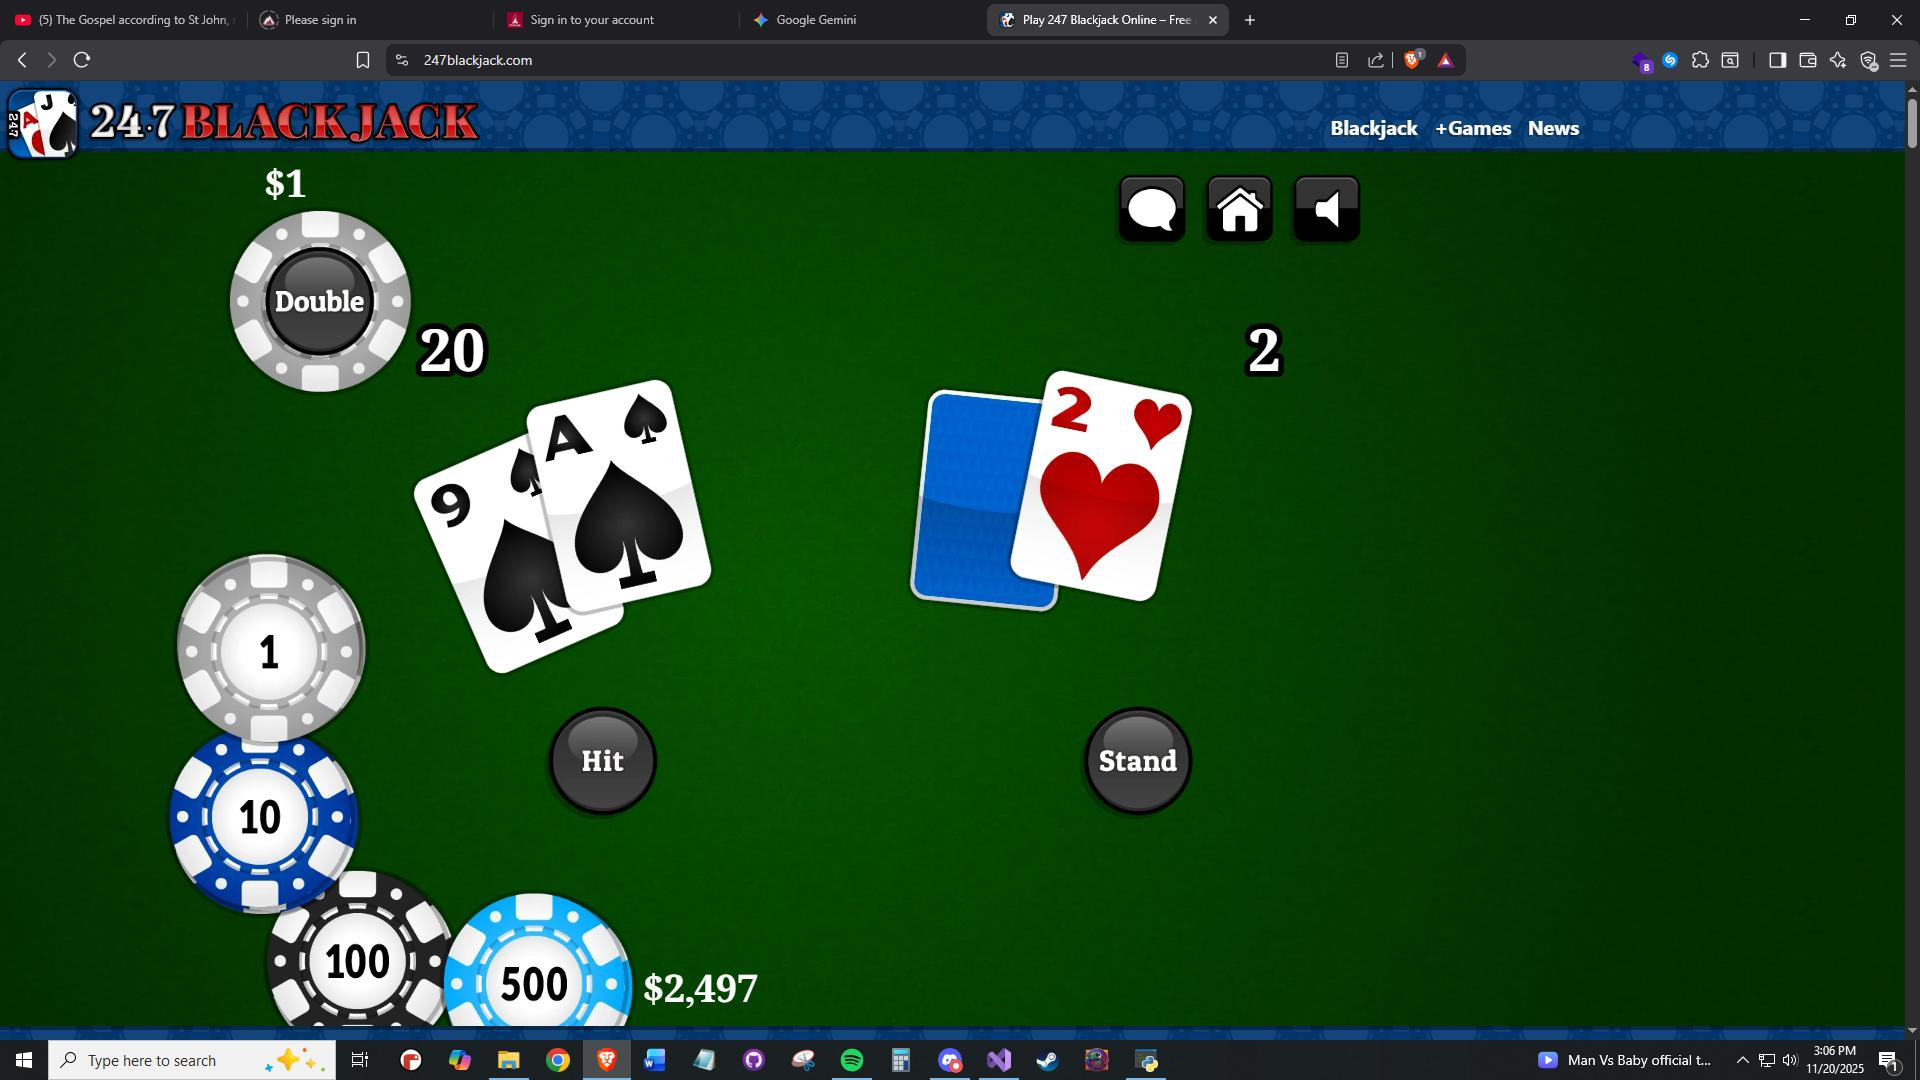2: (1010, 371, 1193, 600)
9: (414, 433, 622, 673)
A: (527, 380, 709, 607)
